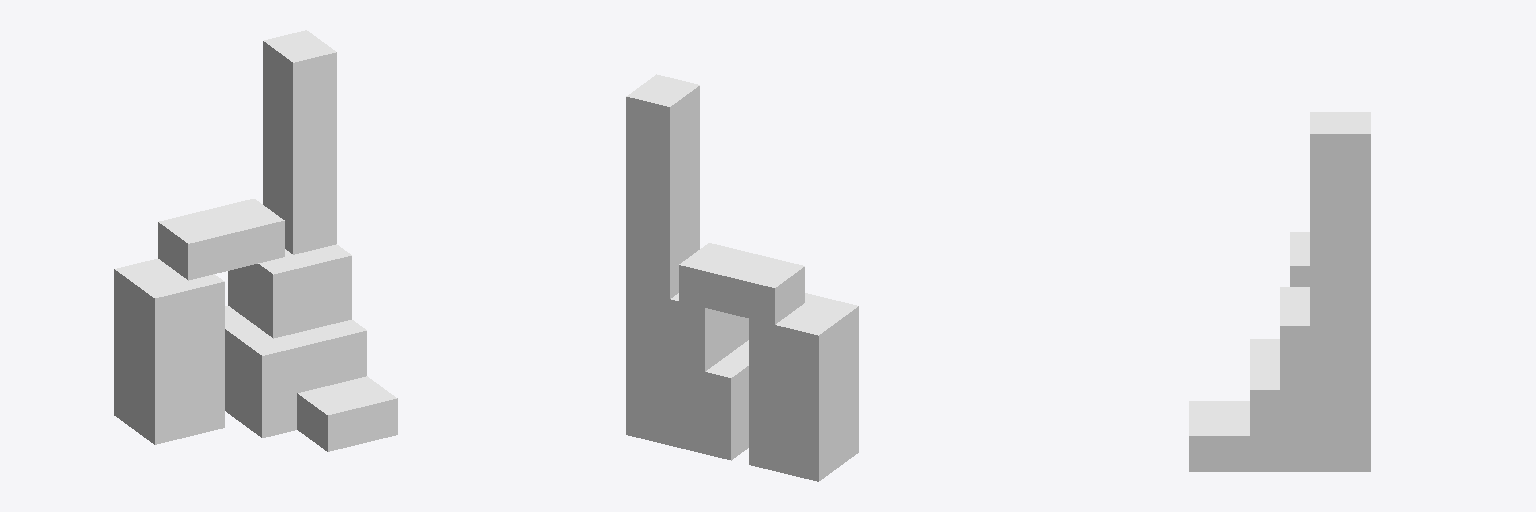
Rendered from fabrica-2.obj.
3 views of the same model, side by side, from view 1: azimuth 30°, elevation 25°; view 2: azimuth 150°, elevation 25°; view 3: azimuth 270°, elevation 25° (orthographic).
Visible parts, largest first — view 1: object 1; view 2: object 1; view 3: object 1.
Part boxes in pixels (bbox=[...]): object 1: bbox=[114, 30, 397, 451]; object 1: bbox=[626, 74, 858, 481]; object 1: bbox=[1189, 112, 1370, 471].
Size of the model in its own units: 2.2 by 3.7 by 1.8.